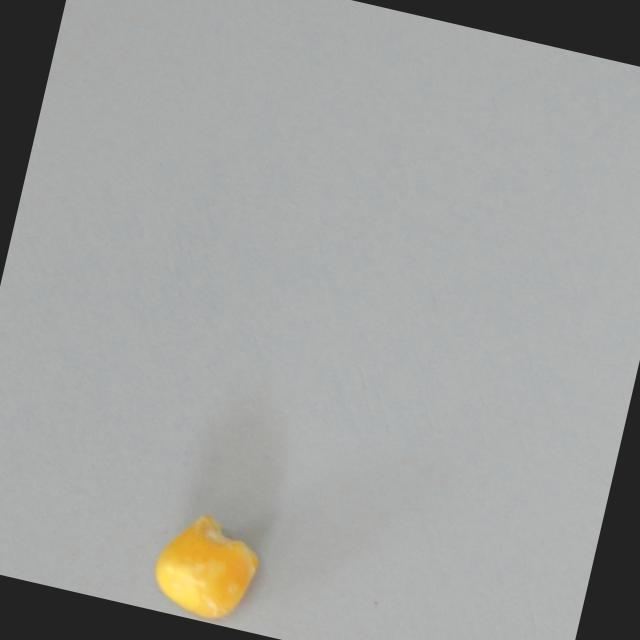no_desgerminado: (143, 501, 270, 626)
